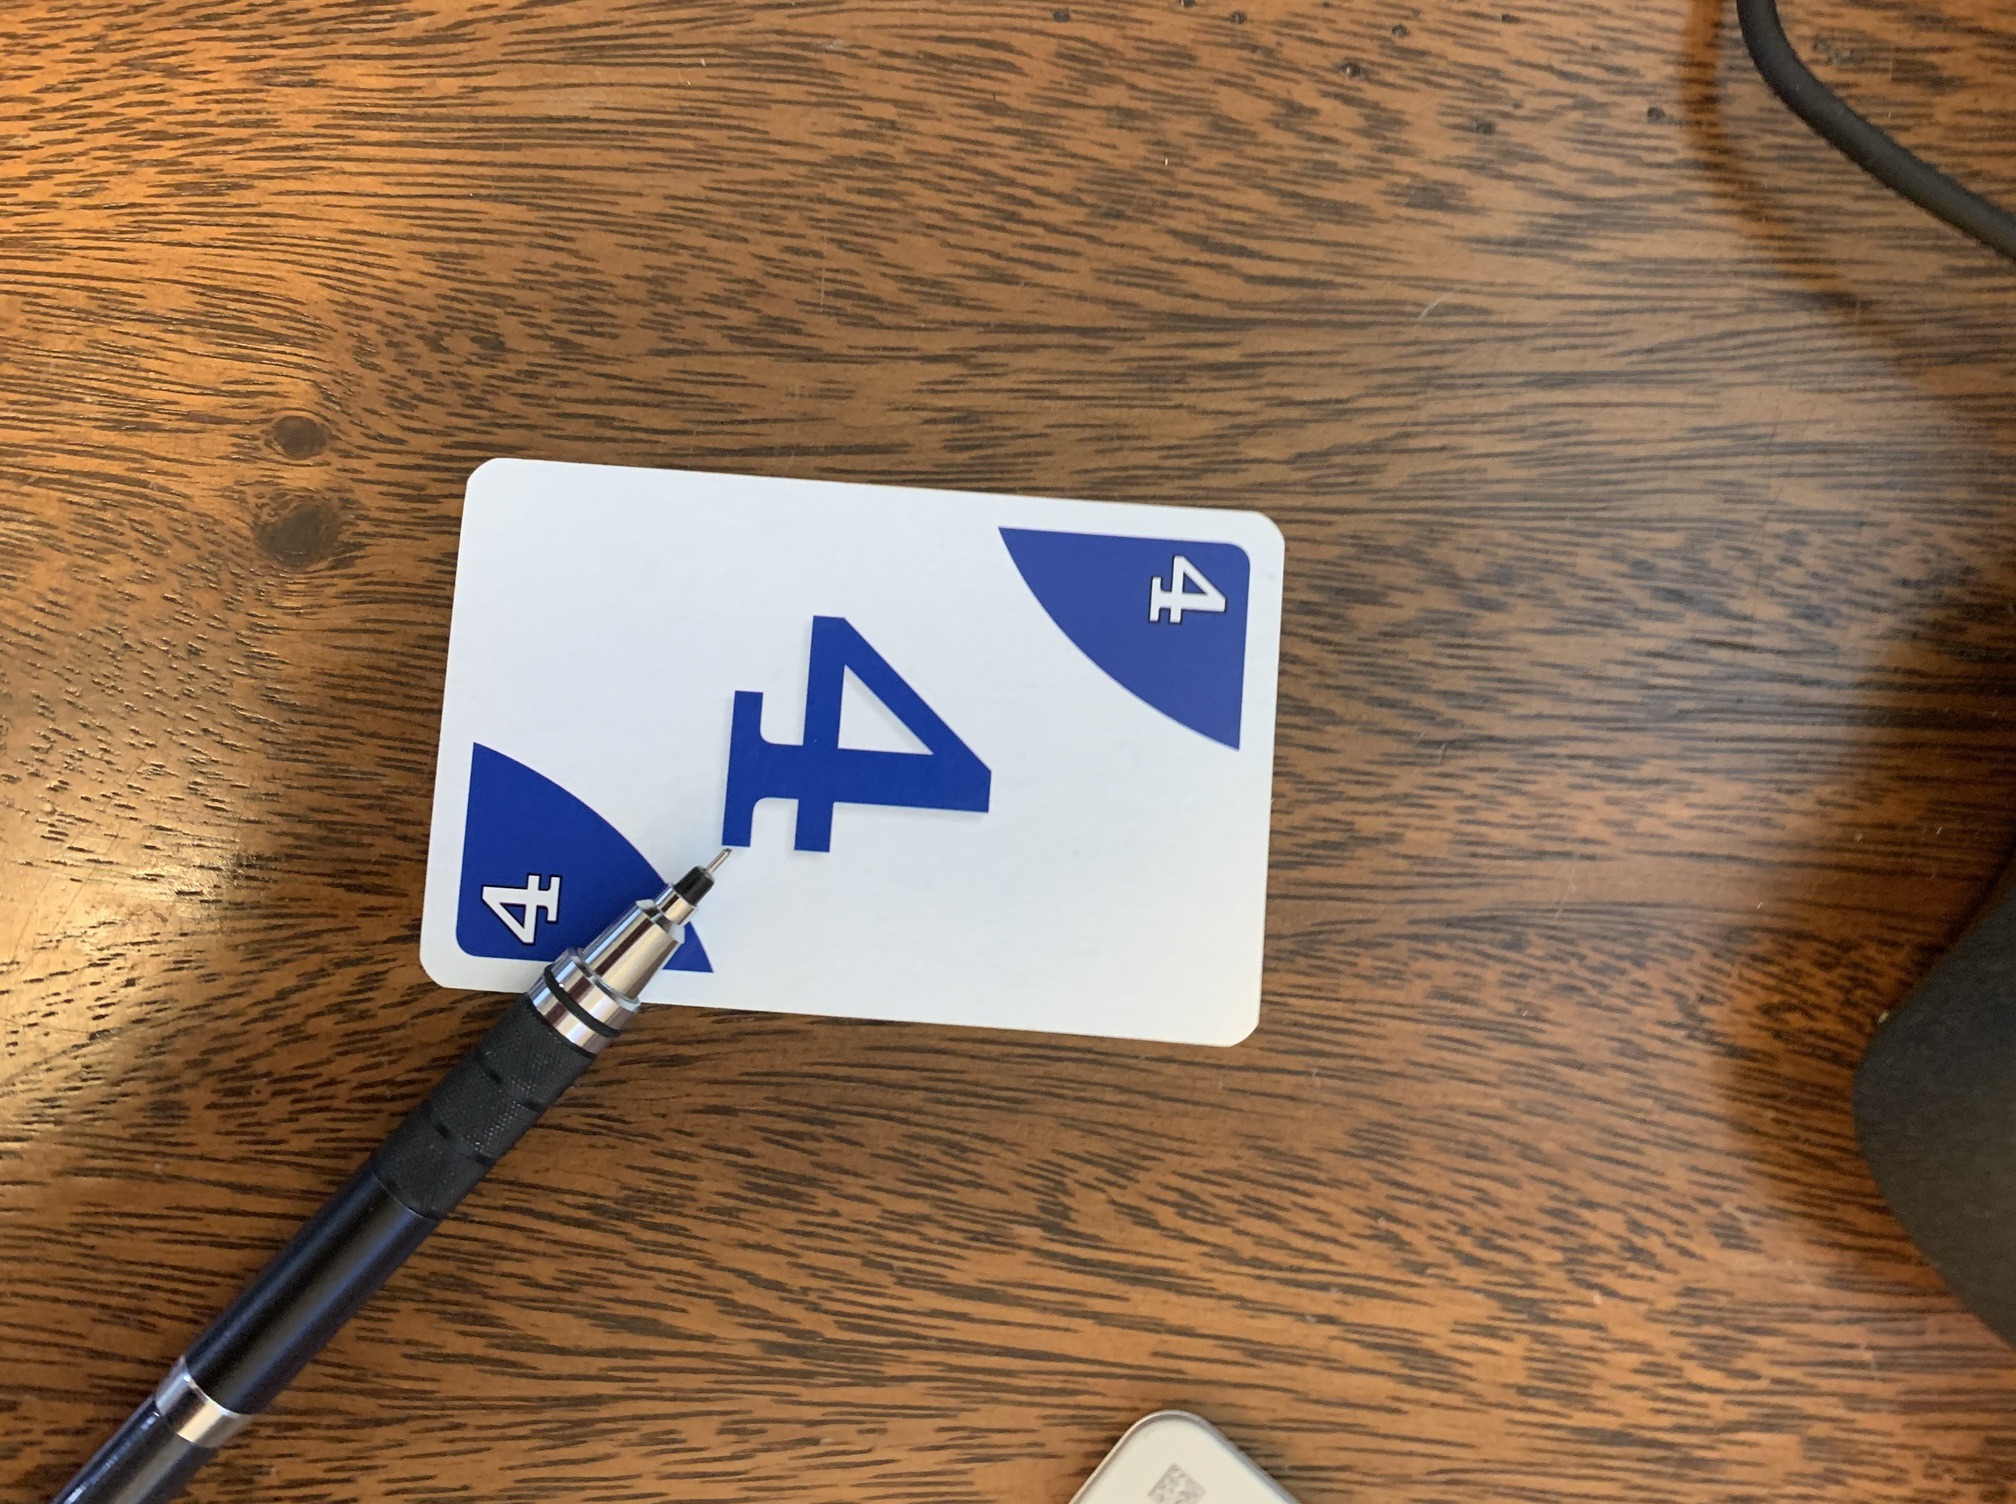four: (409, 444, 1296, 1062)
